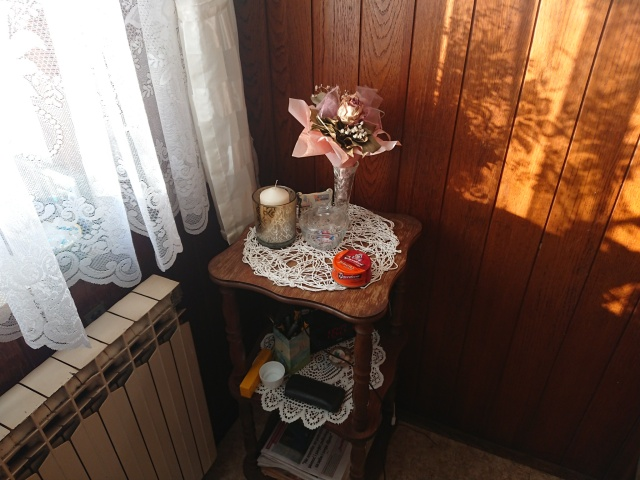Gavrilovic Pork Liver Pate 100g: (329, 247, 372, 289)
